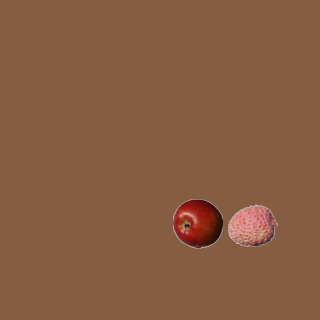Apple Braeburn: (172, 198, 222, 248)
Lychee: (227, 200, 277, 250)
